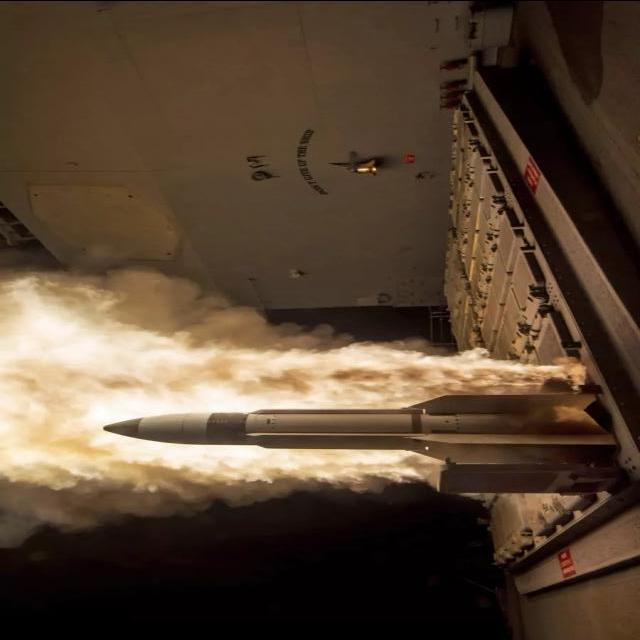missile: (104, 393, 607, 482)
